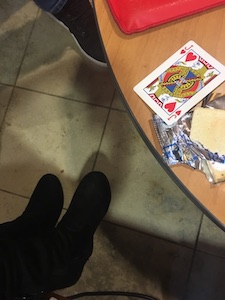JackOfHearts: (133, 39, 225, 127)
